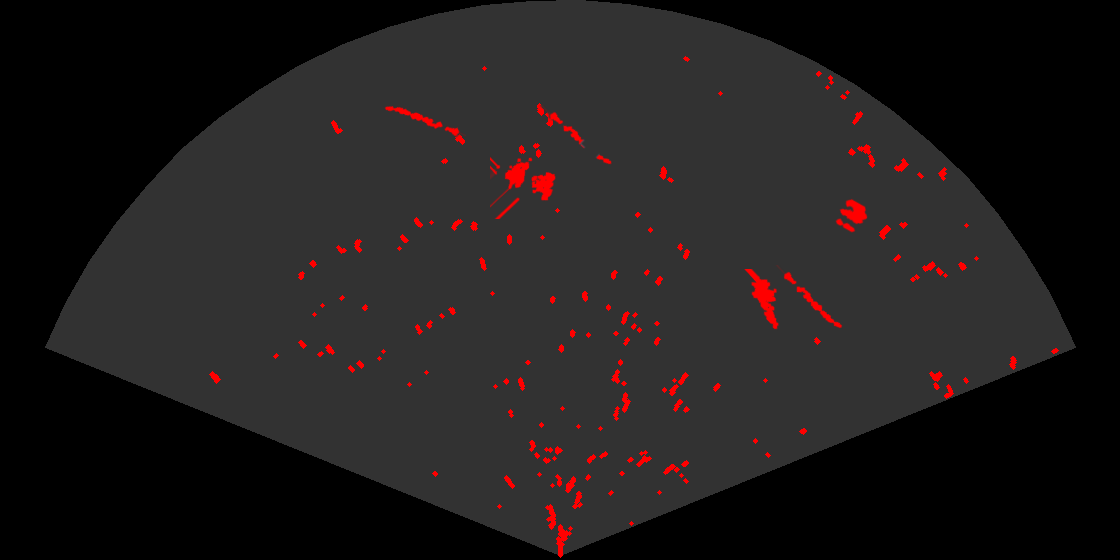ball: (834, 197, 869, 234)
cage: (490, 155, 557, 219)
chain: (774, 265, 844, 330), (539, 105, 613, 166), (383, 104, 466, 138)
frogman: (743, 269, 780, 331)
